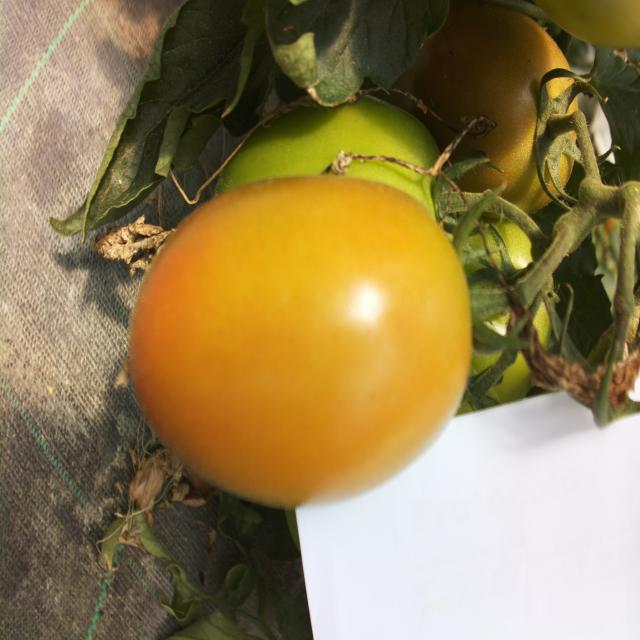sari: (113, 158, 496, 505)
